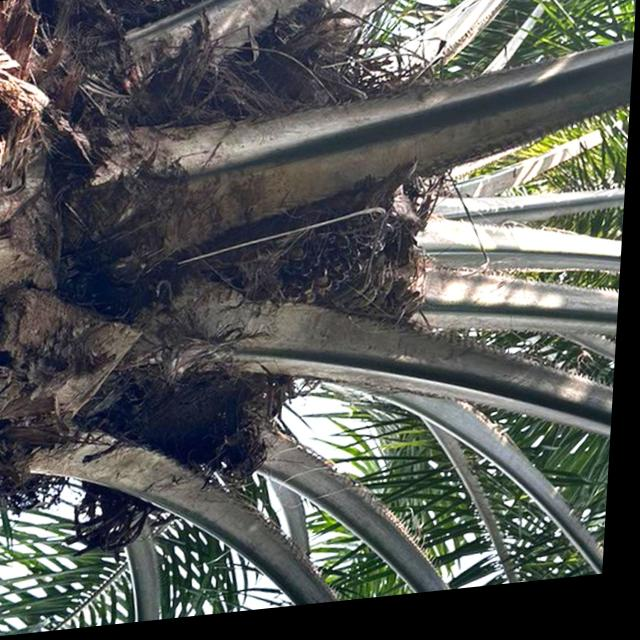almost: (243, 197, 405, 330)
